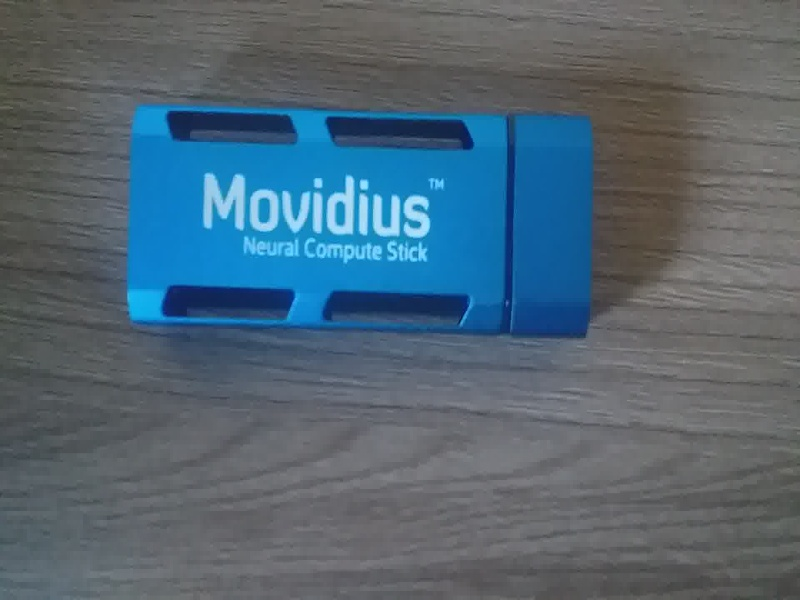movidius: (117, 91, 600, 356)
